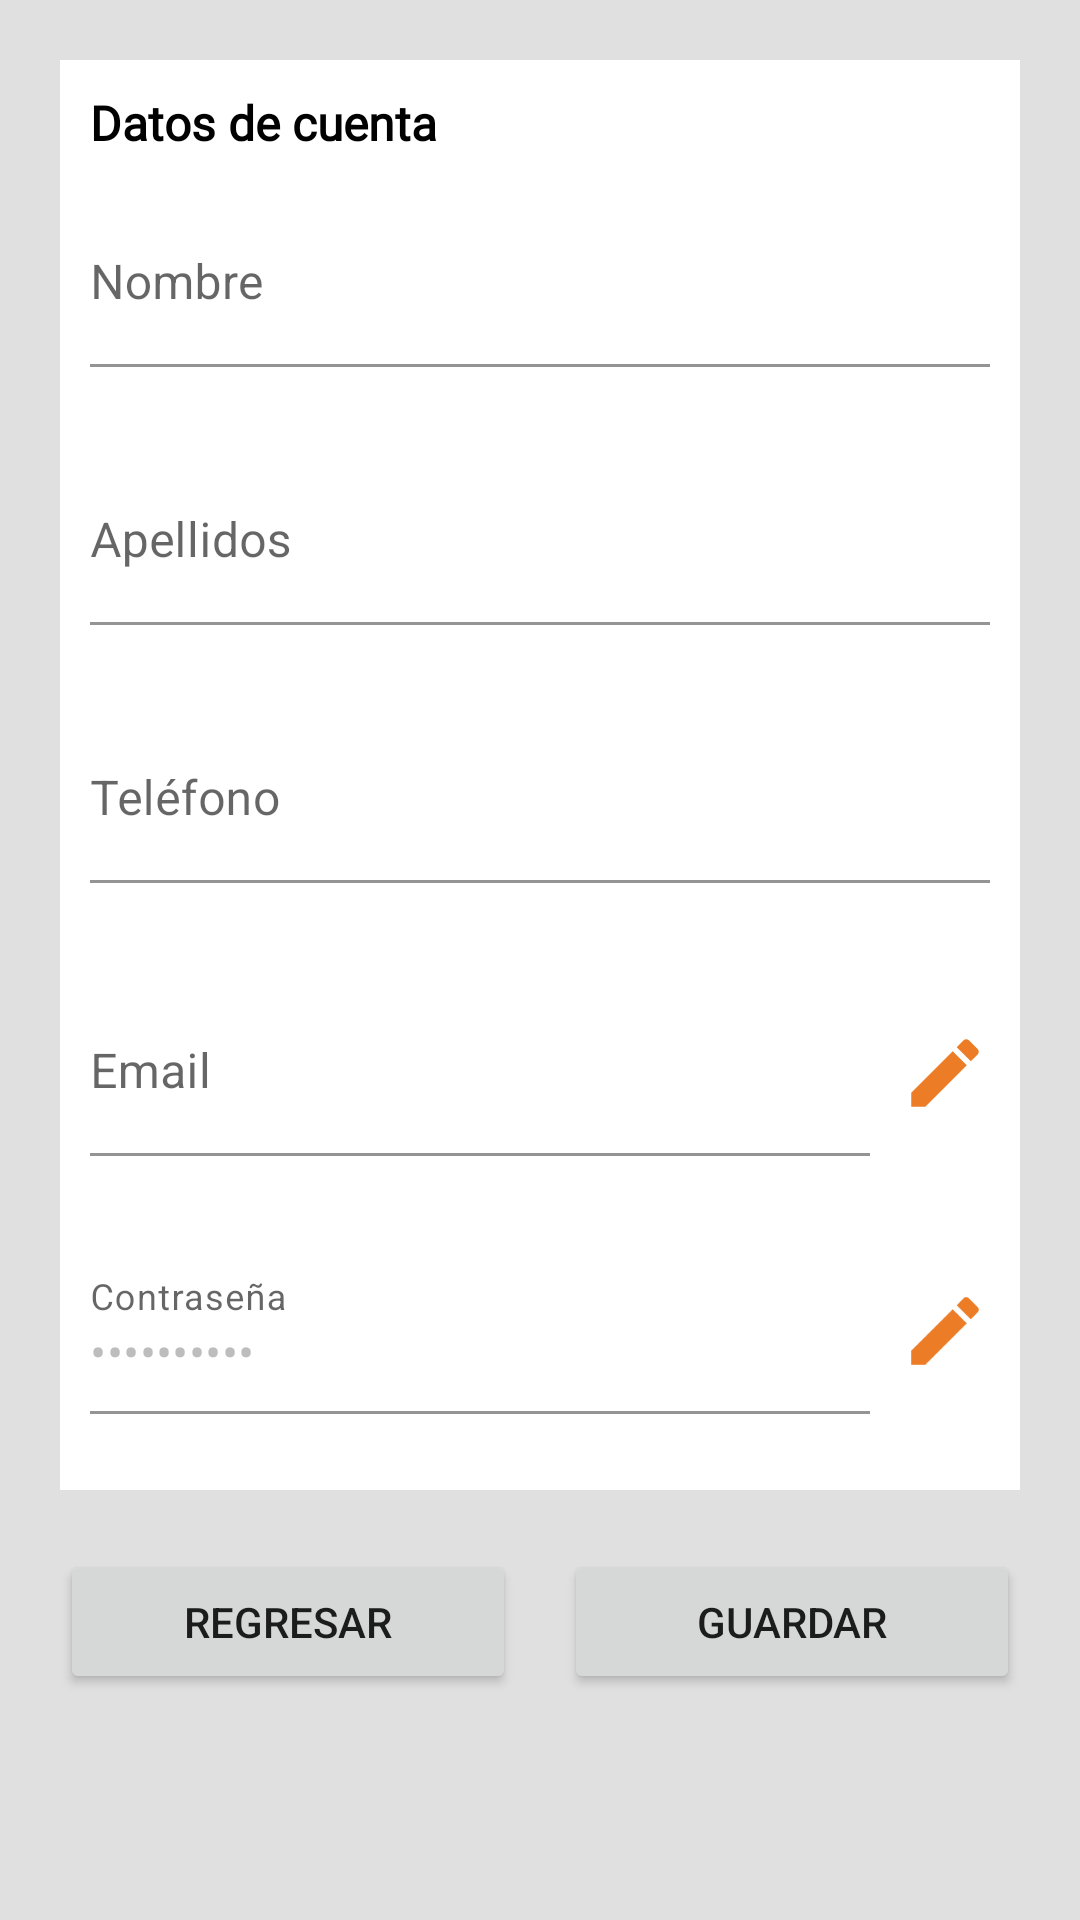

Named icons in this screenshot (1080*1920) and their centers, [x,y]:
edit: [945,1073], [945,1331]
